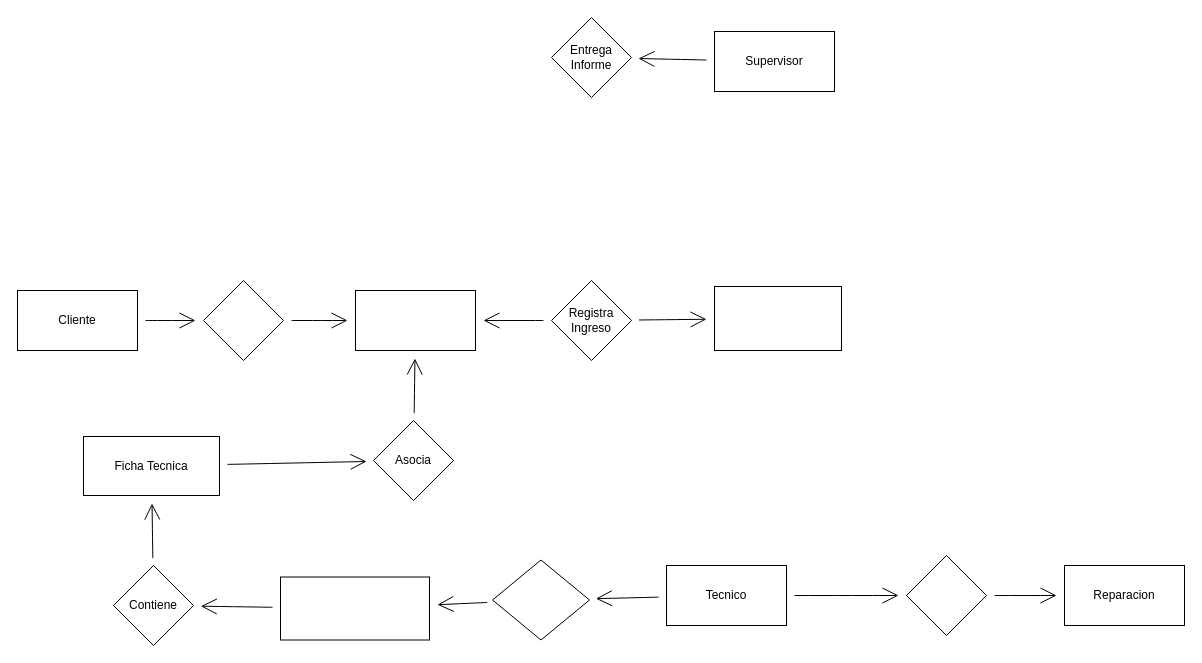
Image size: 1202x663. Some labels were removed from this diagram. Here are the shapes that lost their labels. From the top down, the centre of each, then its label:
At [243,320]: "posee".
At [415,320]: "PC".
At [778,318]: "Secretaria".
At [355,608]: "Problema".
At [541,599]: "Repara".
